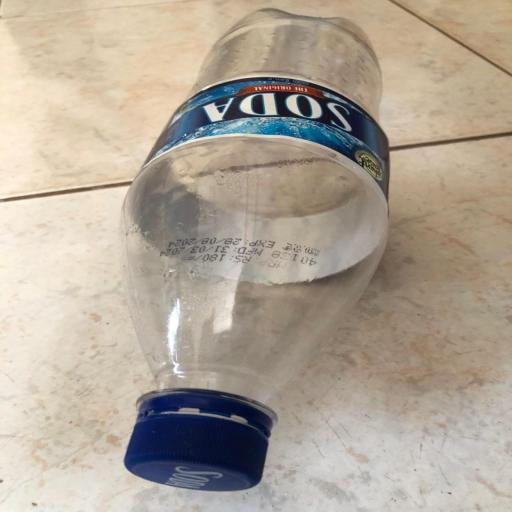waste: (100, 6, 406, 497)
